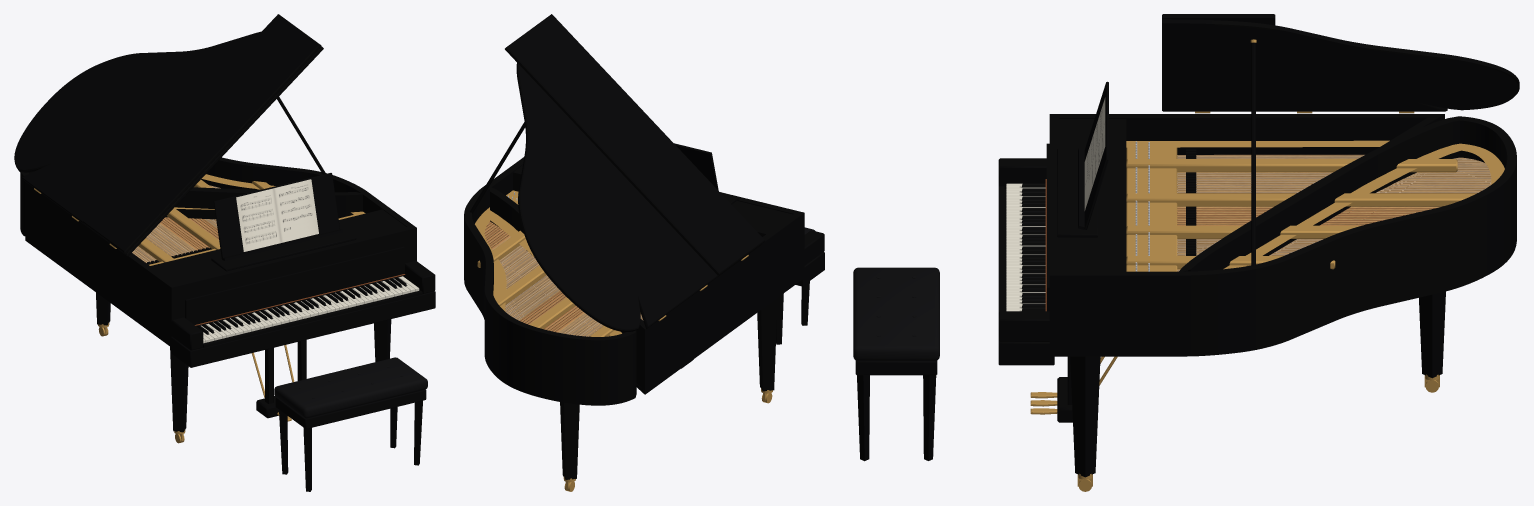
The model's file is GrandPiano.glb.
3 views of the same model, side by side, from view 1: azimuth 30°, elevation 25°; view 2: azimuth 150°, elevation 25°; view 3: azimuth 270°, elevation 25° (orthographic). The views are drawn at different scales.
Visible parts, largest first — view 1: TR_GrandPiano, TR_GrandPiano_Lid, TR_GrandPiano_LidFlap, TR_PianoBench, TR_GrandPiano_MusicDesk; view 2: TR_GrandPiano, TR_GrandPiano_Lid, TR_GrandPiano_LidFlap, TR_GrandPiano_MusicDesk, TR_PianoBench, TR_GrandPiano_LidProp; view 3: TR_GrandPiano, TR_GrandPiano_Lid, TR_PianoBench, TR_GrandPiano_MusicDesk, TR_GrandPiano_LidProp, TR_GrandPiano_LidFlap.
Boxes of the visible parts, x1=… form: TR_GrandPiano: x1=20, y1=157, x2=435, y2=443; TR_GrandPiano_Lid: x1=14, y1=31, x2=323, y2=256; TR_GrandPiano_LidFlap: x1=83, y1=14, x2=321, y2=253; TR_PianoBench: x1=274, y1=357, x2=427, y2=491; TR_GrandPiano_MusicDesk: x1=214, y1=173, x2=342, y2=260; TR_GrandPiano: x1=464, y1=157, x2=824, y2=491; TR_GrandPiano_Lid: x1=516, y1=63, x2=762, y2=331; TR_GrandPiano_LidFlap: x1=505, y1=14, x2=764, y2=275; TR_GrandPiano_MusicDesk: x1=674, y1=143, x2=718, y2=190; TR_PianoBench: x1=776, y1=227, x2=815, y2=344; TR_GrandPiano_LidProp: x1=470, y1=122, x2=525, y2=213; TR_GrandPiano: x1=998, y1=114, x2=1516, y2=491; TR_GrandPiano_Lid: x1=1162, y1=19, x2=1519, y2=113; TR_PianoBench: x1=853, y1=267, x2=939, y2=461; TR_GrandPiano_MusicDesk: x1=1078, y1=81, x2=1108, y2=229; TR_GrandPiano_LidProp: x1=1250, y1=39, x2=1256, y2=266; TR_GrandPiano_LidFlap: x1=1162, y1=14, x2=1275, y2=25.
Bounding box in the file's own units: 1.53 × 1.96 × 2.61.
10 materials, 3 textured.
